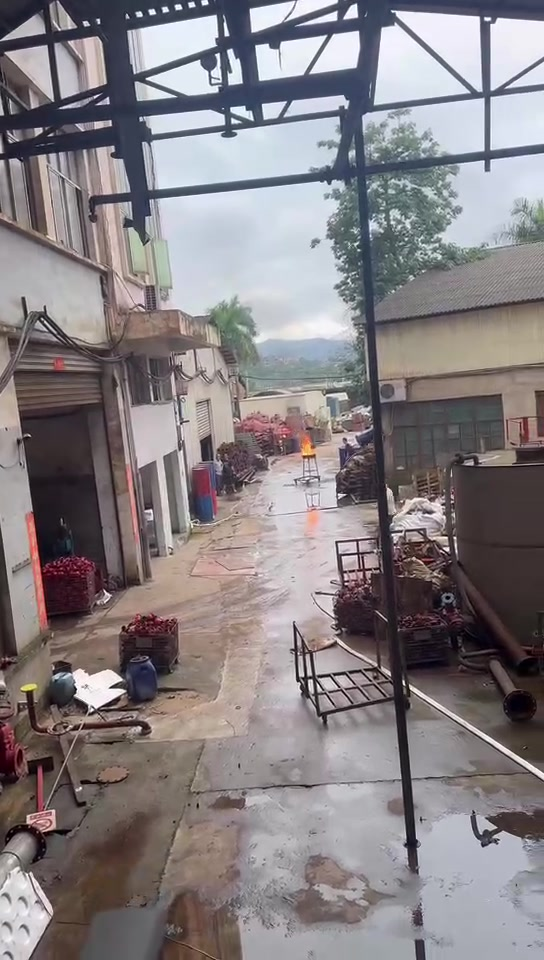fire: (301, 437, 314, 455)
